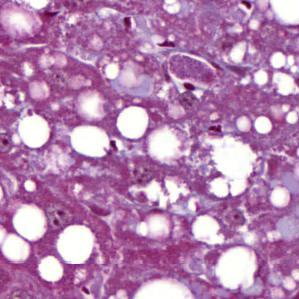steatosis: (118, 102, 150, 142), (19, 113, 49, 150)
